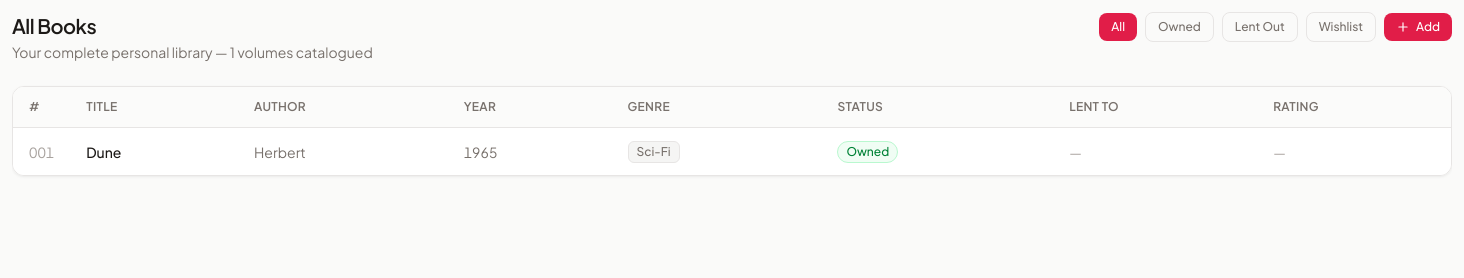
Test: BooksPage — empty and error states › shows 'No books match this filter' when filtered result is empty
Step 1. Click the button "Lent Out" → (1260, 27), box [1222, 12, 1298, 42]
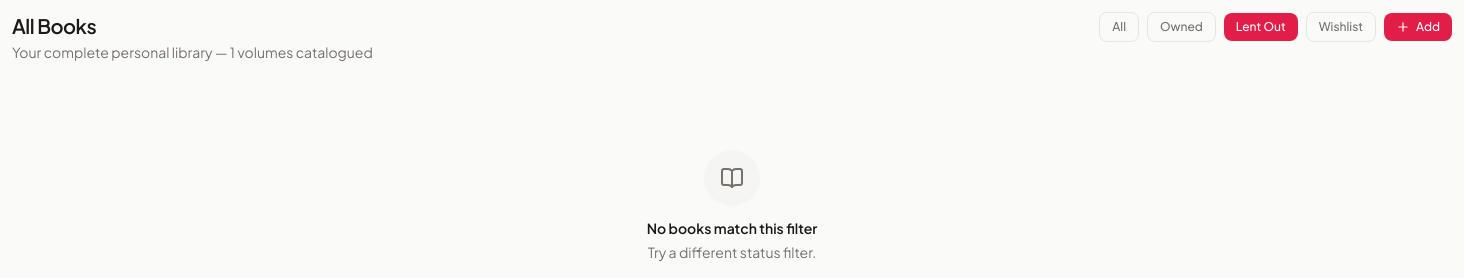
Now the heading "No books match this filter" is shown, box [647, 218, 817, 238]
